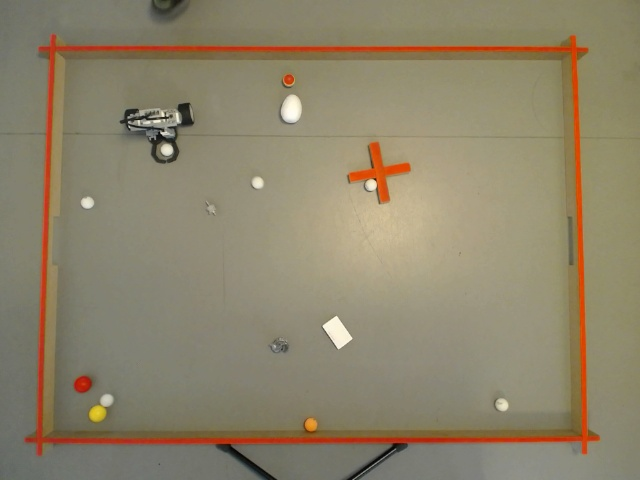big_goal: (52, 217, 59, 264), (566, 218, 572, 266)
cross: (347, 144, 412, 201)
egg: (280, 92, 304, 122)
orange: (304, 417, 318, 431)
robot: (120, 104, 194, 164)
wall: (54, 59, 570, 429)
white: (79, 195, 96, 212), (96, 392, 115, 407), (492, 396, 510, 411), (362, 177, 377, 192), (251, 174, 264, 189), (161, 143, 175, 156)
